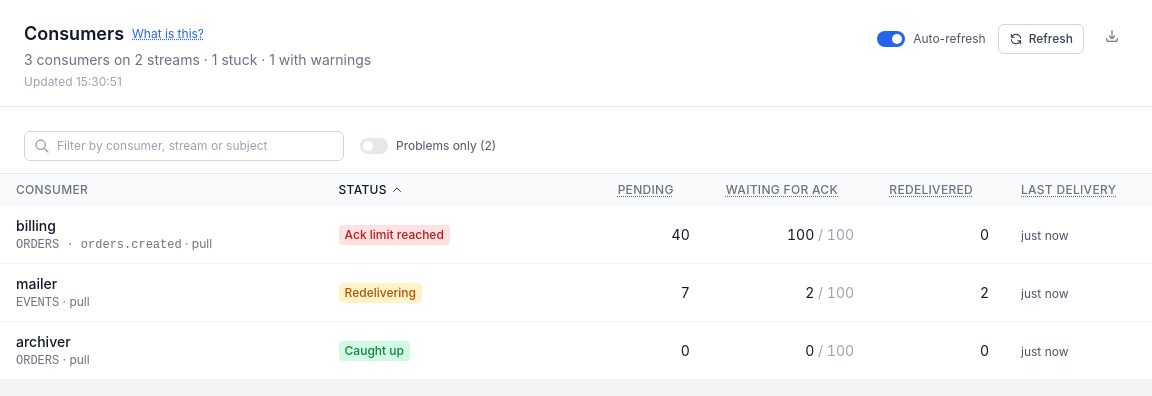
Test: ConsumersPage › keeps the toolbar in place when the filter matches nothing
expect the text "billing" is shown: met, box 16,217 -> 56,234
Type "nothing-like-this" into the field with placeholder "Filter by consumer, stream or subject" at (184, 146), box 24,131 -> 344,161
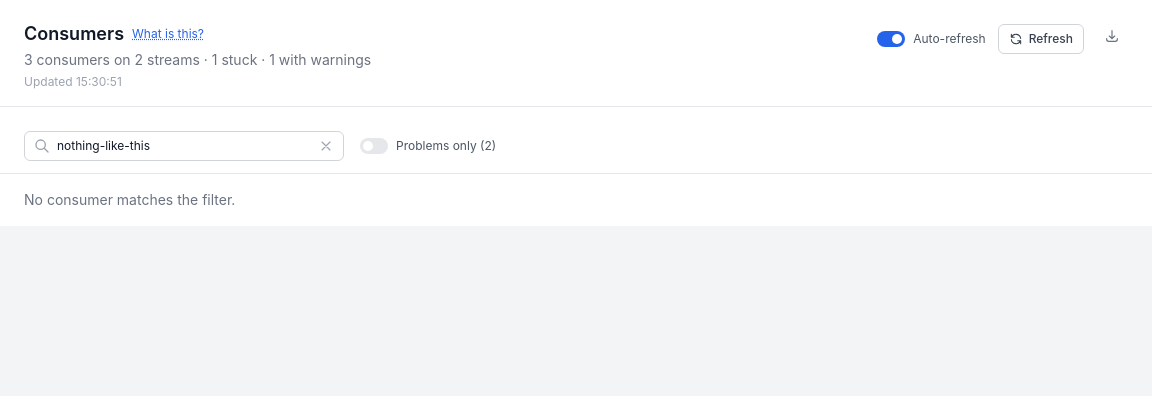
expect the link "billing" is gone: met
Click the button named "Export consumers" at (1112, 36), box 1096,20 -> 1128,52
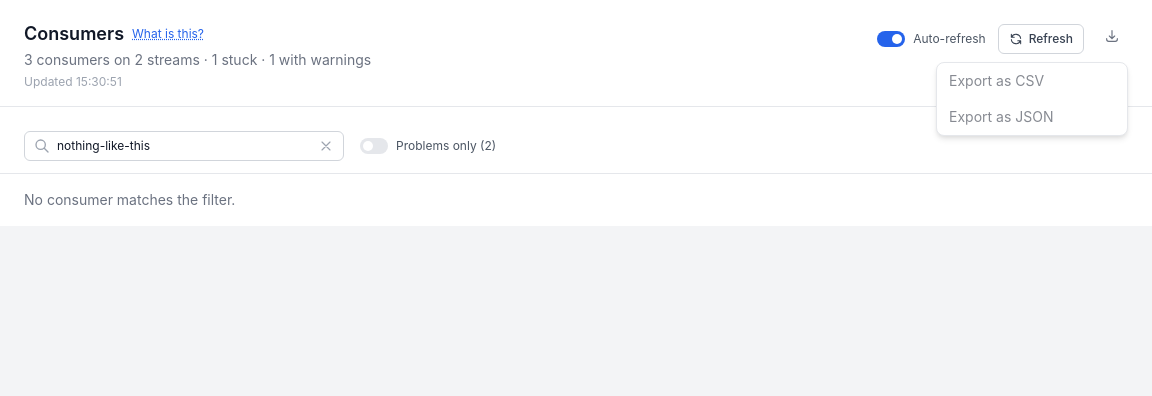
expect the menu item "Export as CSV" is disabled: met, box 937,63 -> 1127,99
